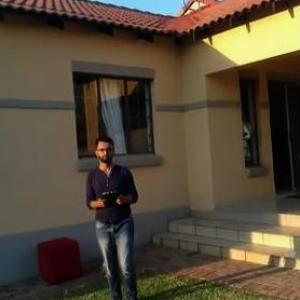follow: (81, 132, 147, 299)
